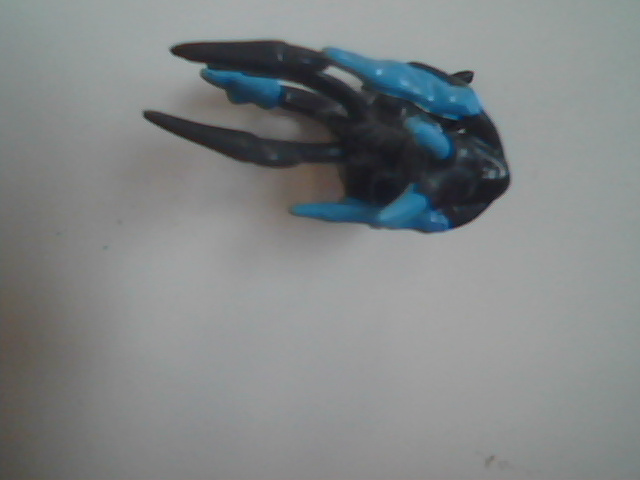charizard: (147, 13, 520, 381)
